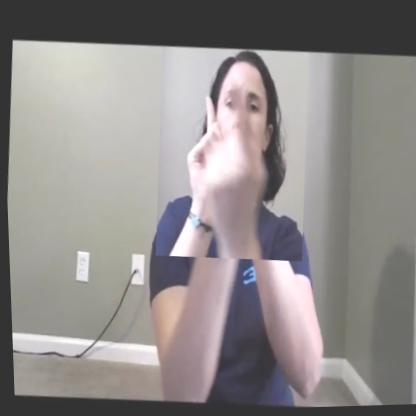NiceToMeetYou: (148, 43, 314, 267)
